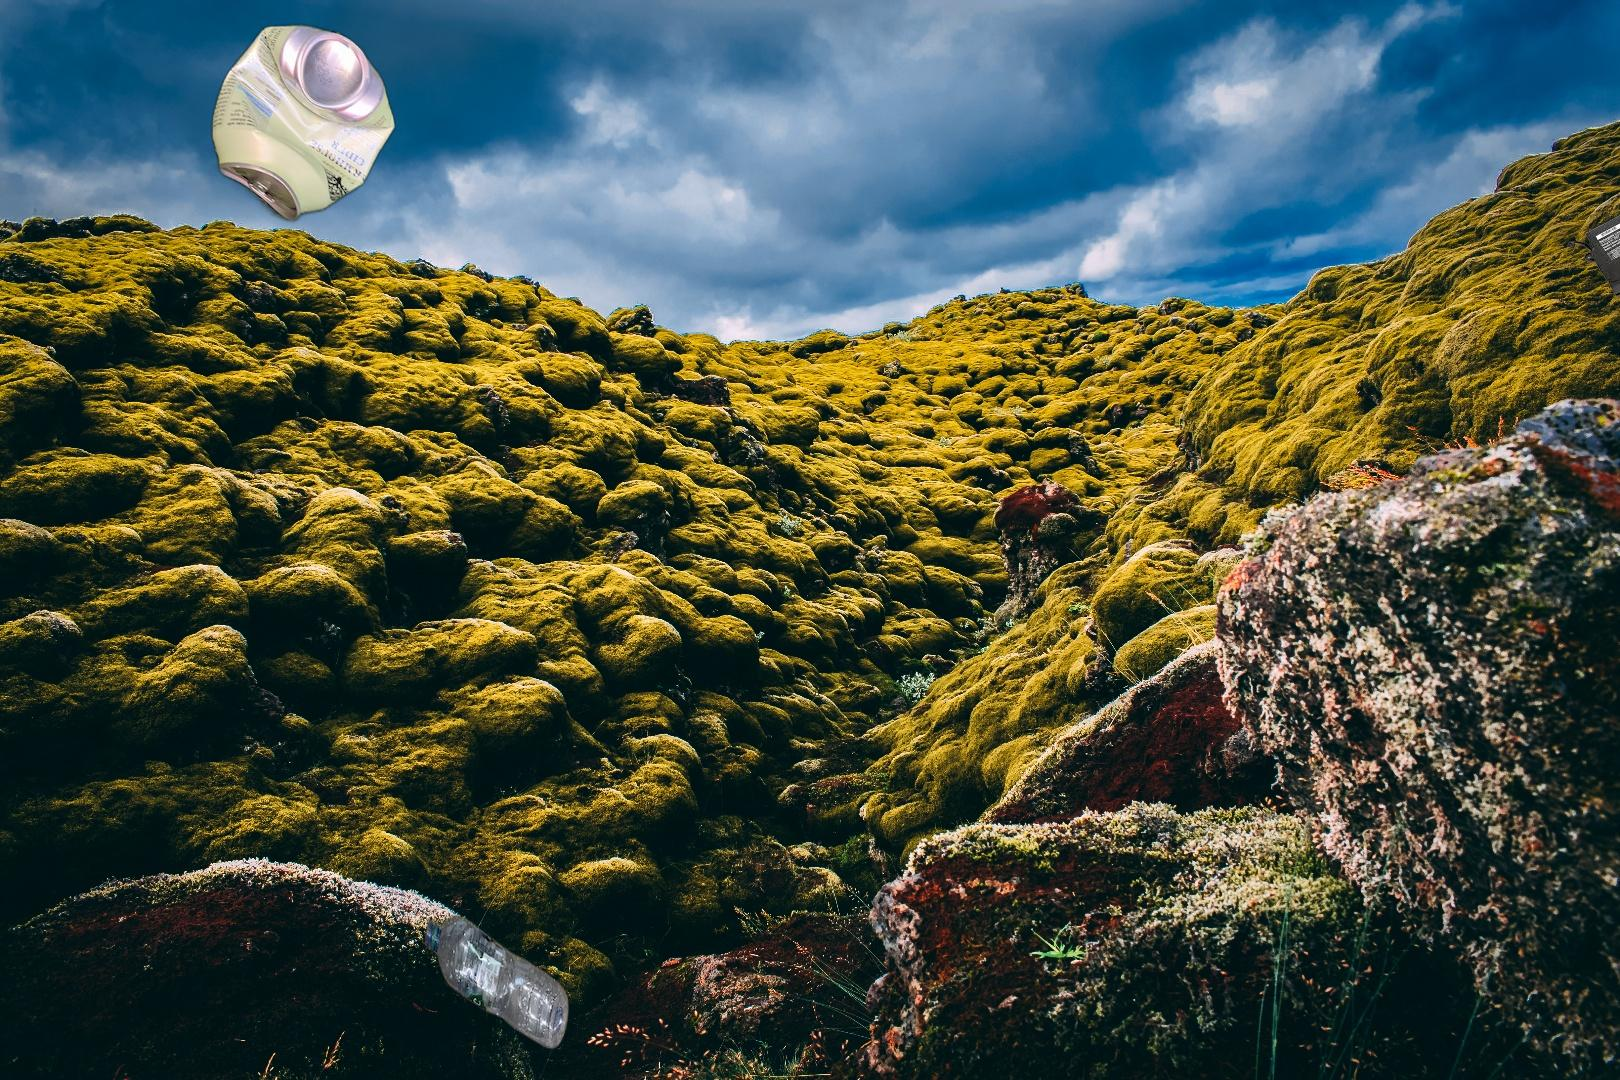battery: (1565, 152, 1620, 299)
metal-cans: (959, 928, 1397, 1080), (207, 19, 400, 227)
plastic-bottles: (421, 912, 573, 1053)
